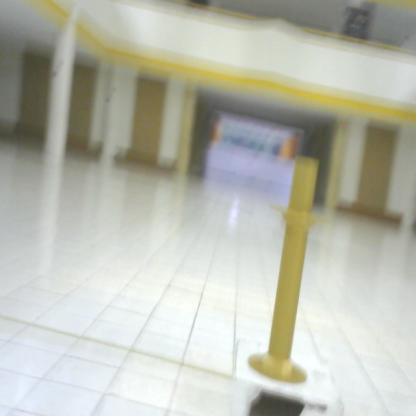pole: (248, 148, 329, 394)
